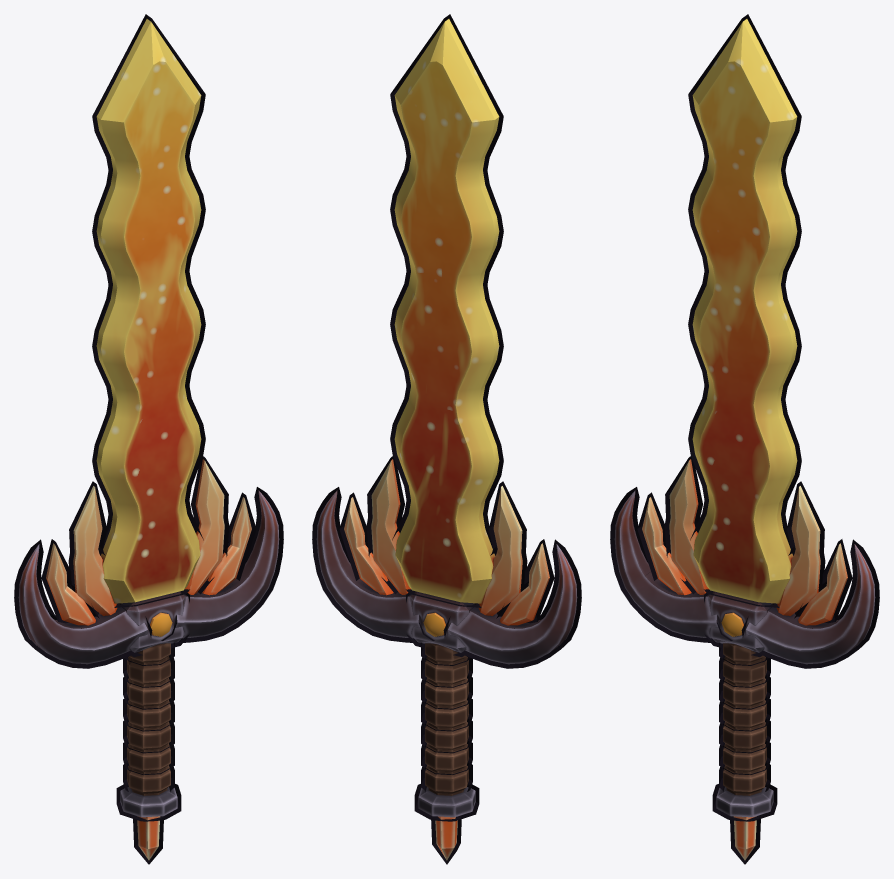
File: FlameSword.fbx
3 views of the same model, side by side, from view 1: azimuth 30°, elevation 25°; view 2: azimuth 150°, elevation 25°; view 3: azimuth 330°, elevation 25° (orthographic).
Parts seen in each view (by area): view 1: FlameSword, FlameSwordOutline, FlameSwordFlame; view 2: FlameSword, FlameSwordOutline, FlameSwordFlame; view 3: FlameSword, FlameSwordOutline, FlameSwordFlame.
Part boxes in pixels (x1=…): FlameSword: x1=18, y1=19, x2=279, y2=817; FlameSwordOutline: x1=14, y1=14, x2=283, y2=864; FlameSwordFlame: x1=46, y1=459, x2=251, y2=860; FlameSword: x1=316, y1=19, x2=577, y2=817; FlameSwordOutline: x1=312, y1=14, x2=581, y2=864; FlameSwordFlame: x1=344, y1=459, x2=549, y2=860; FlameSword: x1=614, y1=19, x2=875, y2=817; FlameSwordOutline: x1=610, y1=14, x2=879, y2=864; FlameSwordFlame: x1=642, y1=459, x2=847, y2=860.
Size of the model in its own units: 143 by 444 by 34.4.
2 materials, 1 textured.
